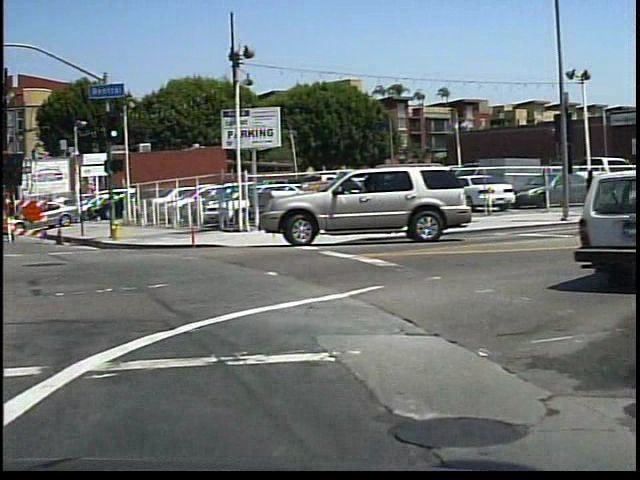person: (581, 163, 602, 215)
